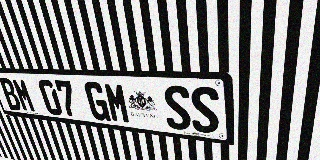0: (37, 79, 63, 116)
7: (53, 80, 80, 118)
B: (0, 78, 23, 111)
G: (83, 81, 111, 122)
M: (103, 82, 131, 124), (11, 78, 37, 113)
S: (189, 86, 219, 134), (162, 85, 192, 131)
